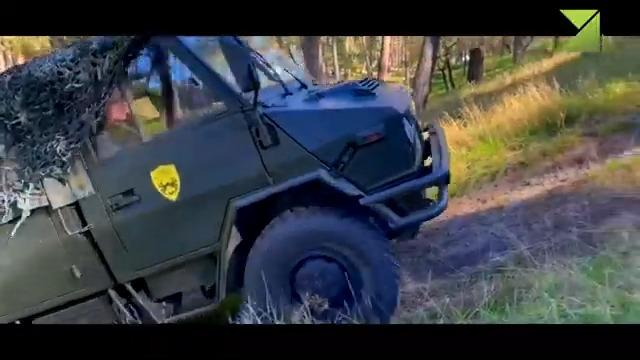MIL_HMMWV: (0, 35, 455, 328)
